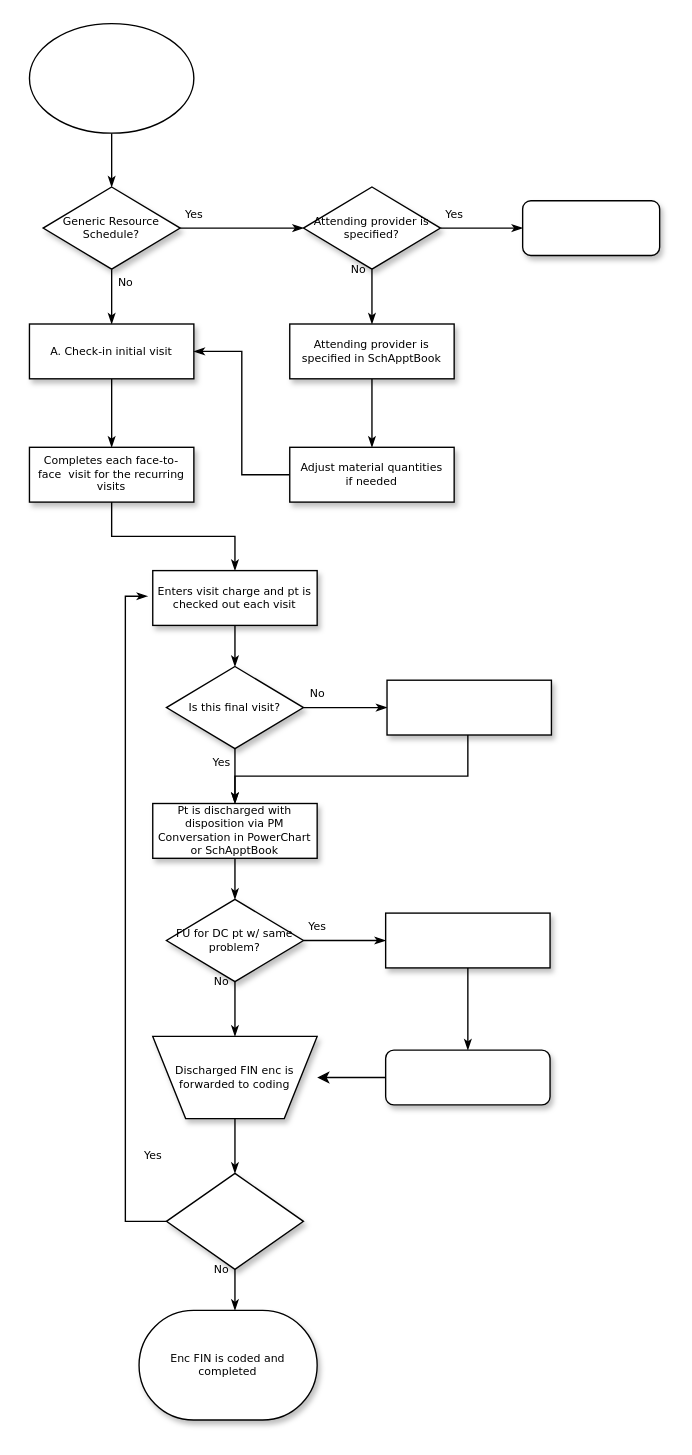
The diagram is 692 pixels wide and 1455 high, and some of its shapes have lost their labels. The centre of each missing label's shape, as x and y in pixels:
"Enc FIN Review and Change is needed?" belongs at point 236,1223.
"Enters Step A. Check-in" belongs at point 592,229.
"Follow Step A. Check-in on next visit" belongs at point 470,709.
"Old FIN is reactivated" belongs at point 468,941.
"Pt is DC'd again with disposition when fu is completed" belongs at point 468,1078.
"Recurring Visit Scheduled via SchApptBook" belongs at point 111,77.
